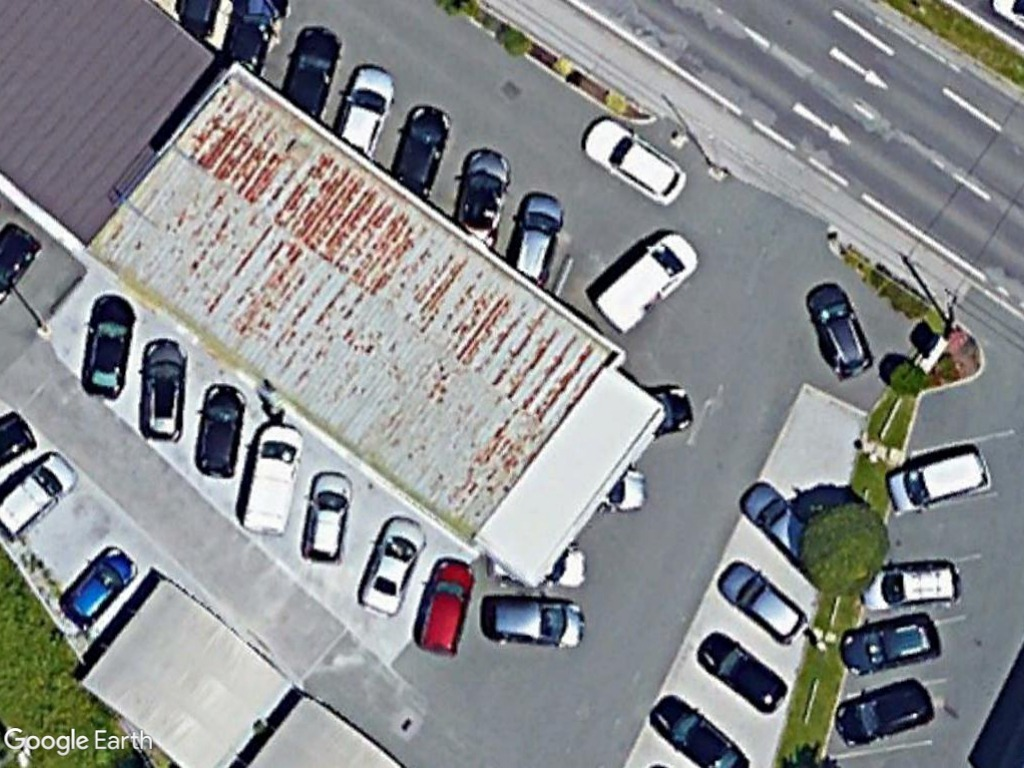car: (579, 113, 692, 205), (710, 560, 812, 651), (644, 689, 752, 768), (696, 630, 791, 718), (0, 443, 83, 543), (830, 678, 937, 749), (806, 275, 876, 382), (356, 513, 426, 619), (834, 613, 947, 676), (411, 553, 476, 662), (59, 541, 138, 630), (78, 290, 138, 404), (483, 589, 590, 652), (189, 381, 251, 484), (858, 559, 968, 617), (135, 335, 191, 446), (297, 468, 353, 567)
van: (588, 232, 701, 335), (238, 423, 309, 541), (883, 442, 990, 516)
